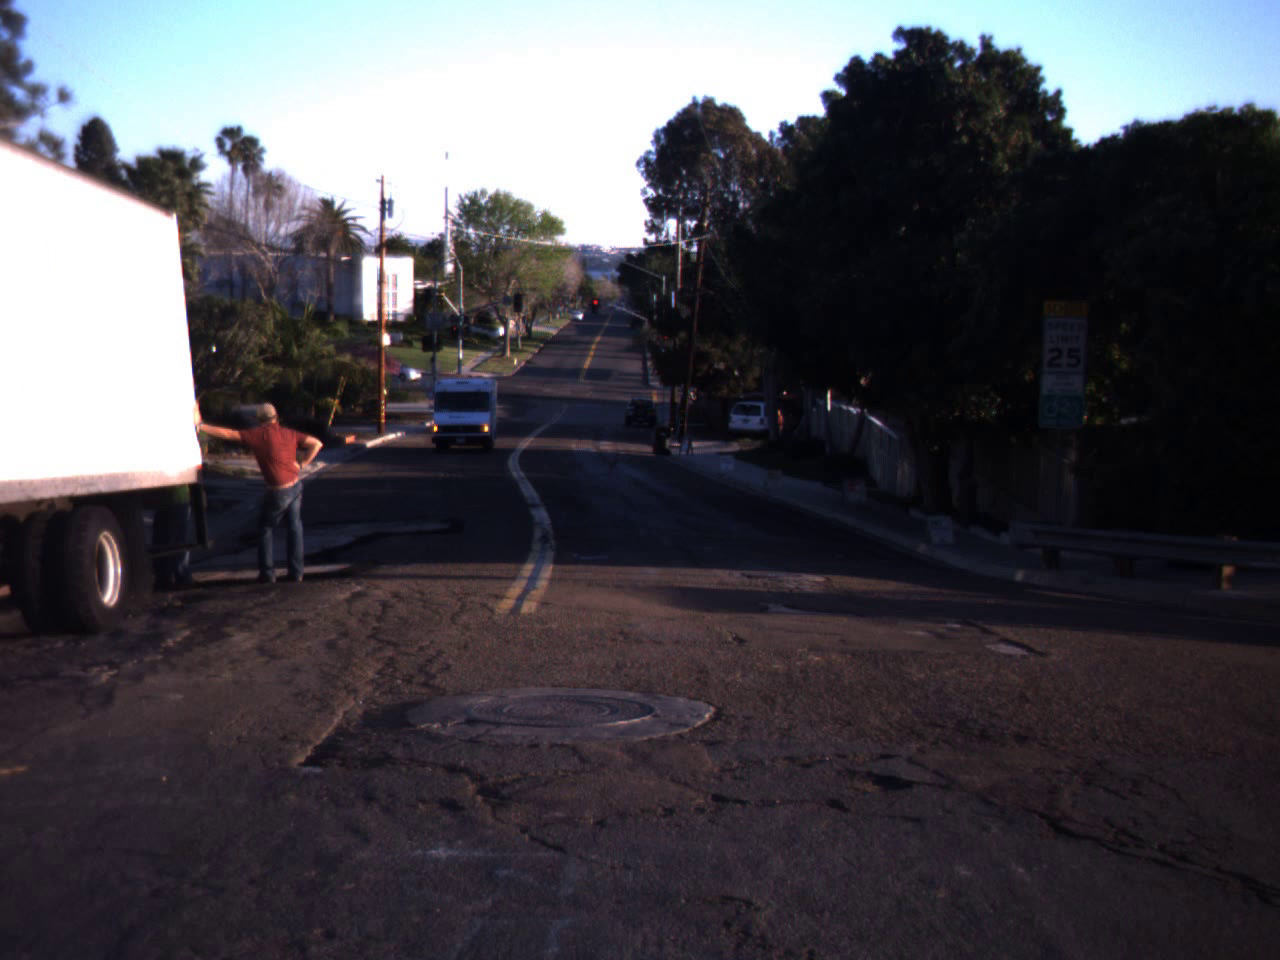stop: (447, 324, 462, 342), (590, 298, 602, 316)
